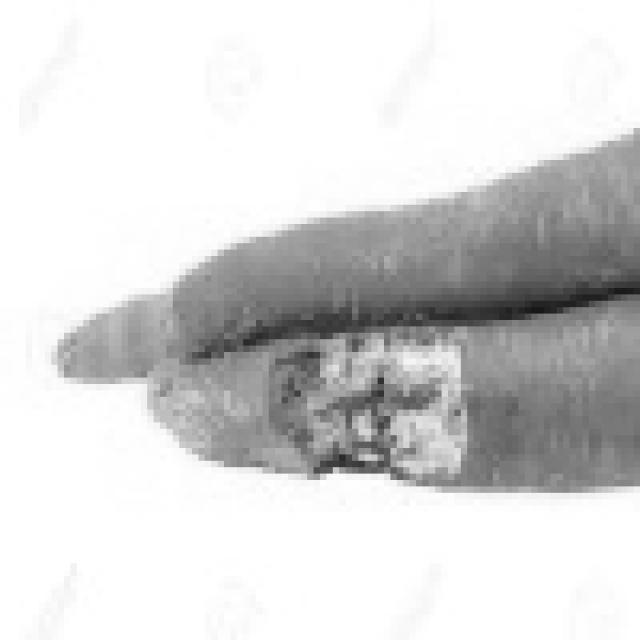Stale_Carrot: (36, 115, 640, 397), (131, 269, 640, 495)
